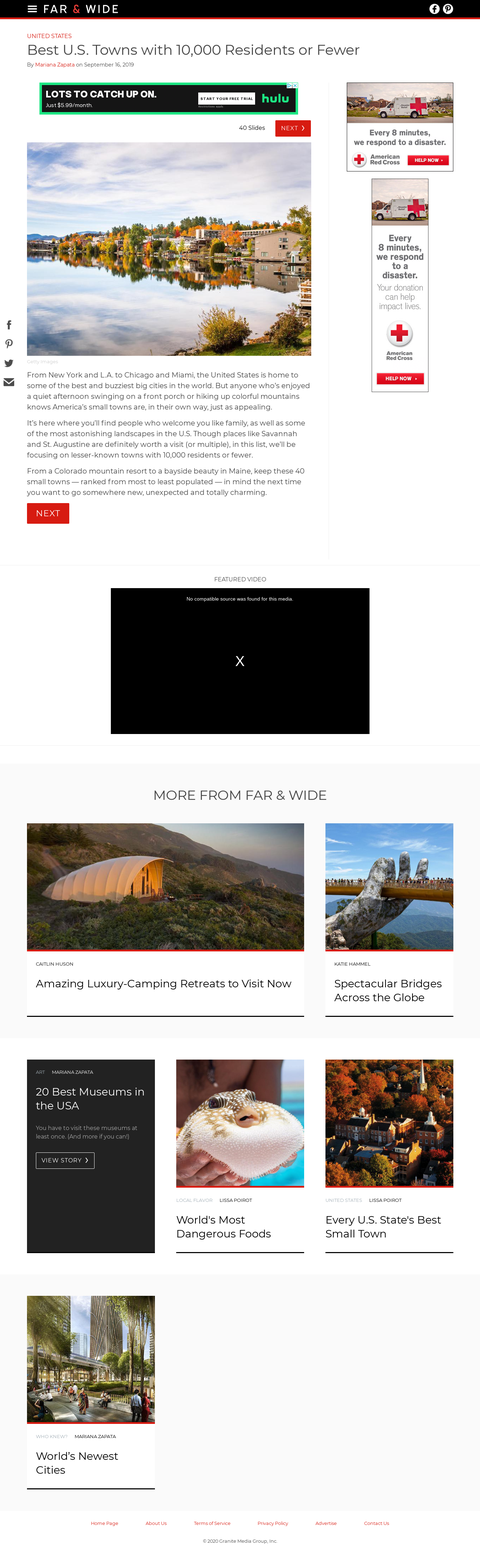fake_button: (16, 502, 83, 529), (271, 116, 320, 139), (376, 369, 426, 389)
